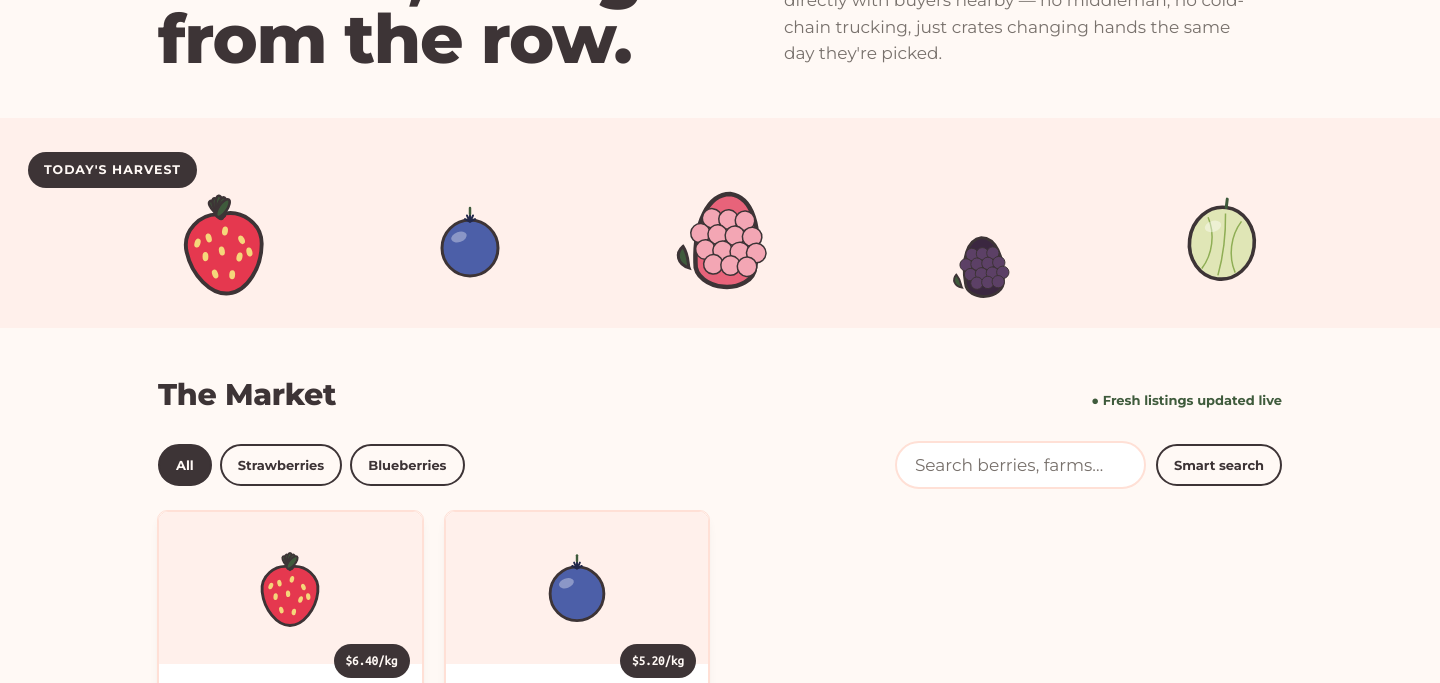
Scenario: MarketPage › runs smart search and shows the semantic results with a mode badge
Type "sweet berries for jam" into the search field at point(1020, 465), box [895,441,1146,489]
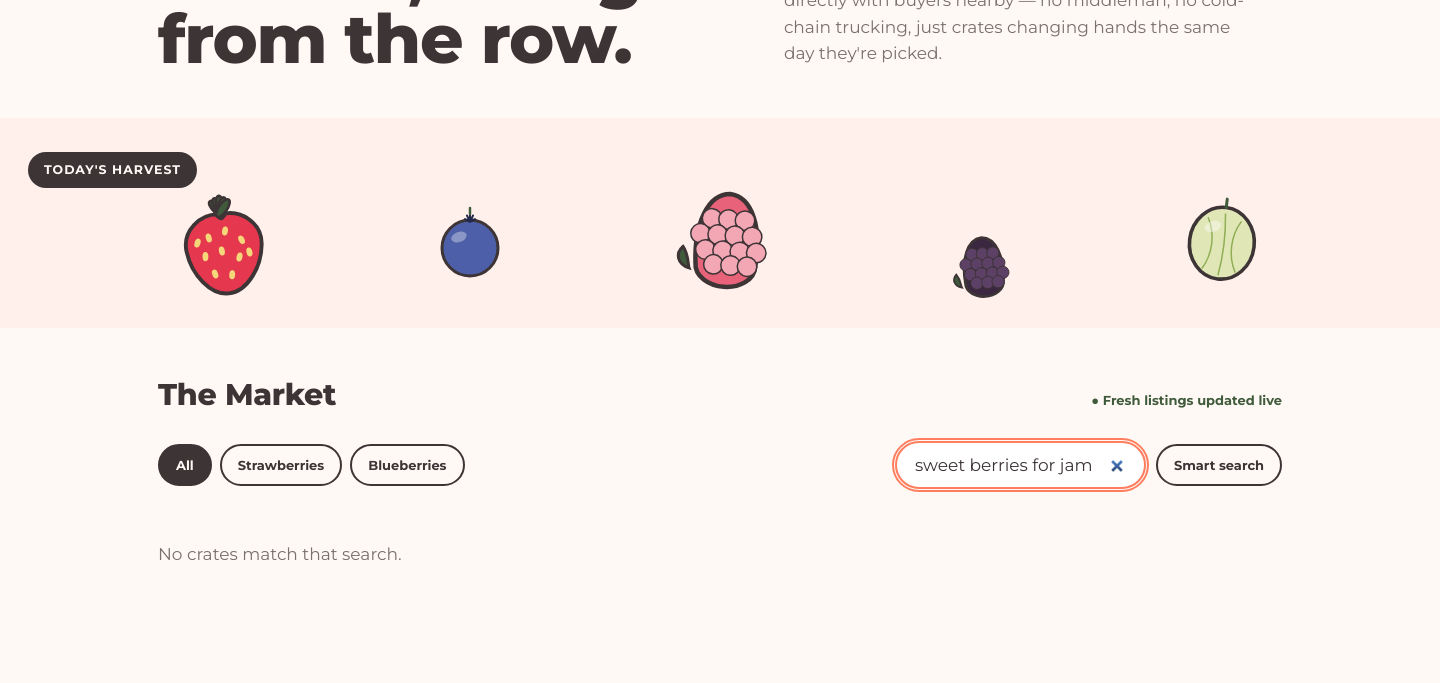
Click the button "Smart search" at point(1219, 465), box [1156,444,1282,486]
(page scrolled)
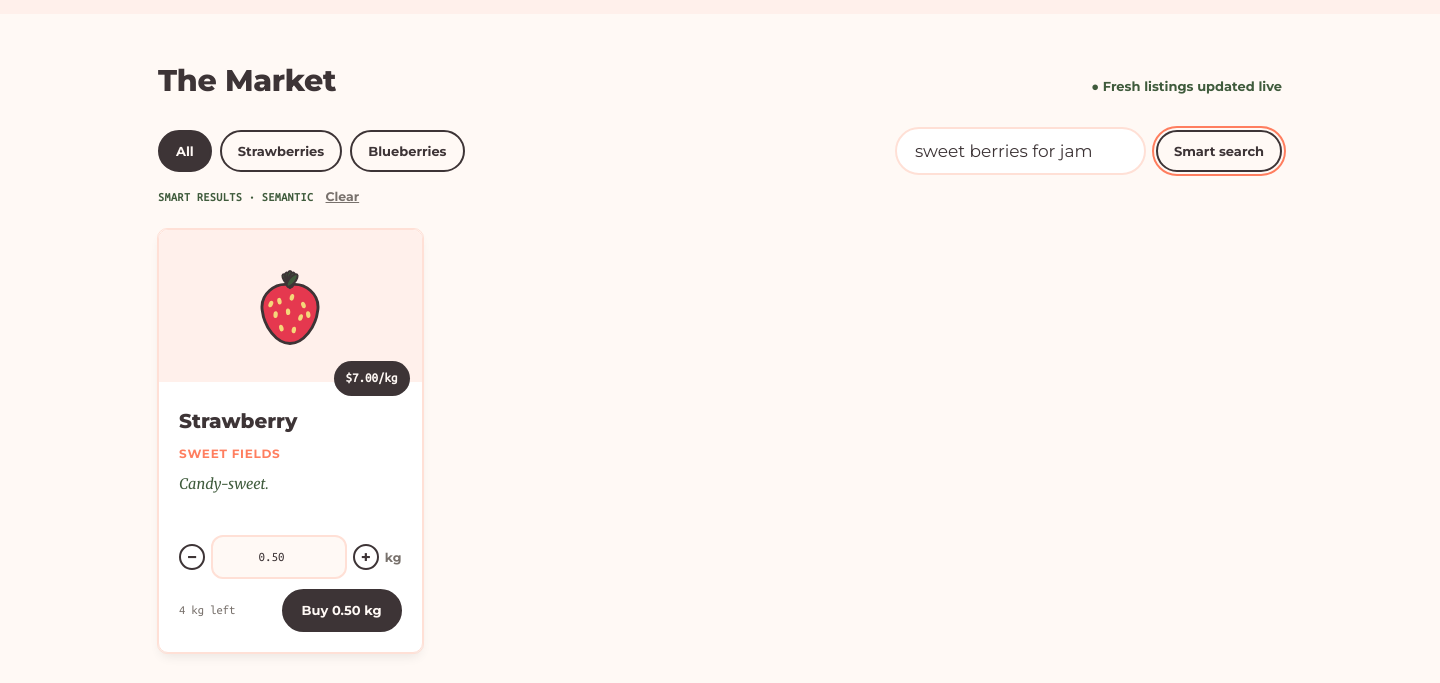
Now the text "Smart results · semantic" is shown, box [158,188,314,206]
Now the text "Sweet Fields" is shown, box [179,446,280,461]
Now the text "Candy-sweet." is shown, box [179,475,269,493]
